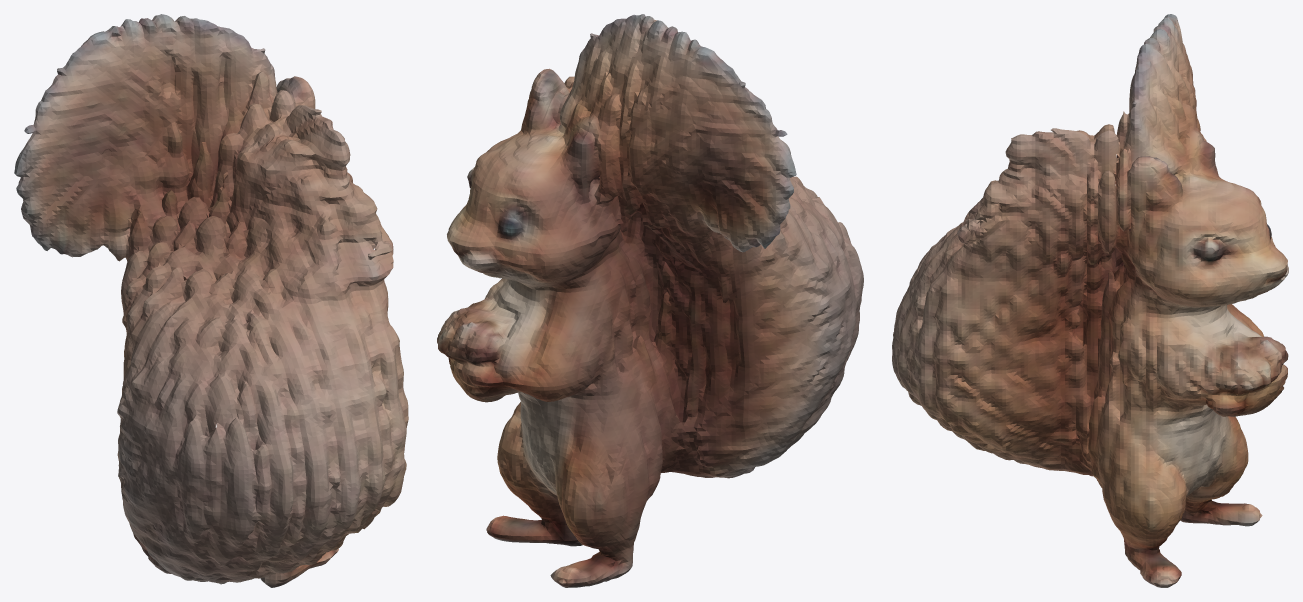
File: dr-mineral.glb
3 renders of one model, left to right at view 1: azimuth 30°, elevation 25°; view 2: azimuth 150°, elevation 25°; view 3: azimuth 270°, elevation 25°, orthographic. The views are drawn at different scales.
Visible parts, largest first — view 1: world; view 2: world; view 3: world.
Part boxes in pixels (box(x1,y1,x2,y2)): world: box(14, 14, 408, 587); world: box(437, 14, 863, 587); world: box(892, 14, 1288, 587).
Size of the model in its own units: 0.5864 by 1.01 by 0.7352.
